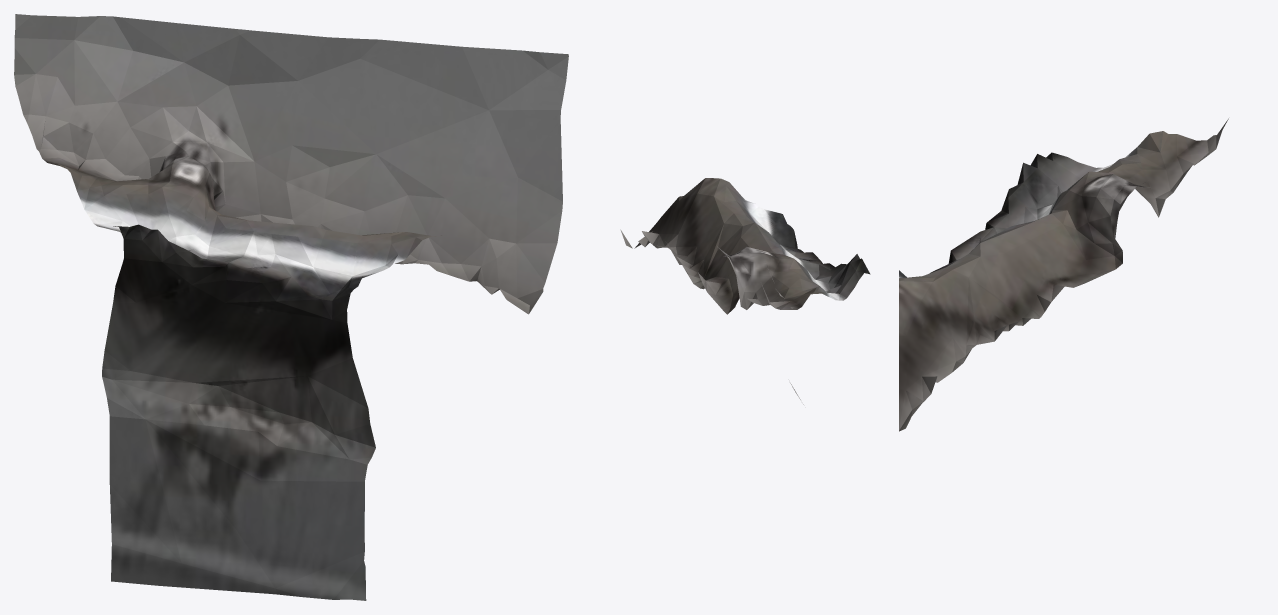
3 renders of one model, left to right at view 1: azimuth 30°, elevation 25°; view 2: azimuth 150°, elevation 25°; view 3: azimuth 270°, elevation 25°, orthographic. The views are drawn at different scales.
Bounding box in the file's own units: 0.6592 × 0.8373 × 0.5512.
2 materials, 2 textured.
